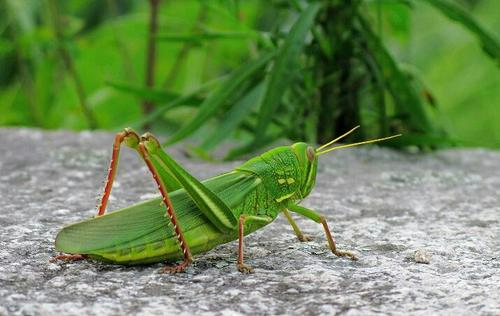huangchong: (53, 116, 399, 276)
